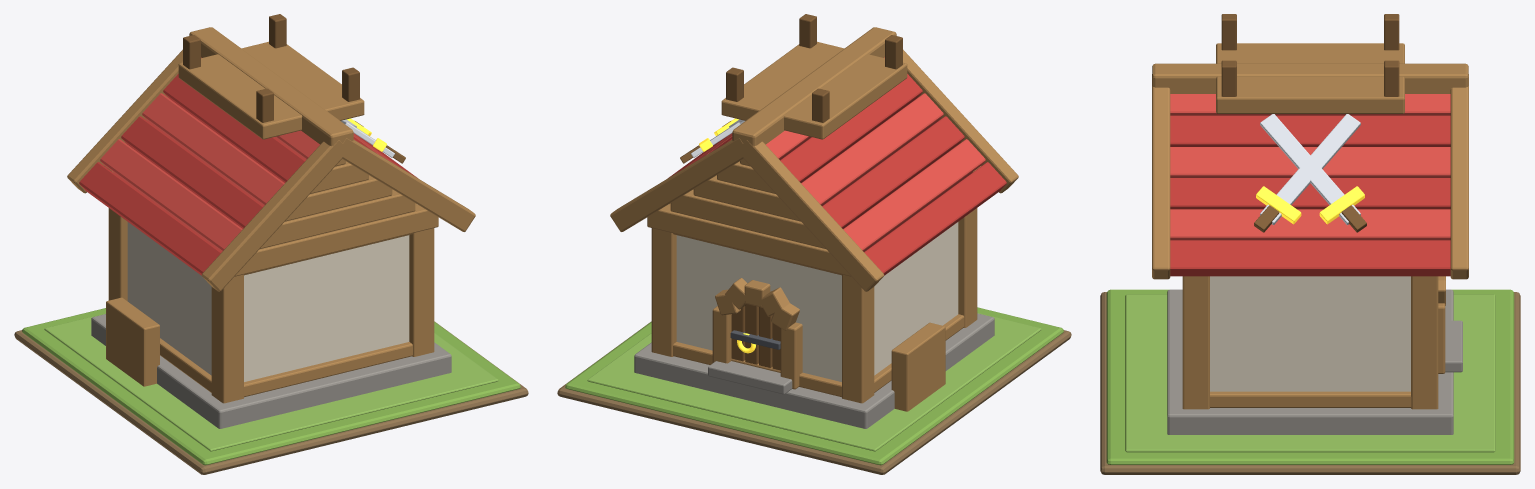
The model's file is barracks_lv2.glb.
3 renders of one model, left to right at view 1: azimuth 30°, elevation 25°; view 2: azimuth 150°, elevation 25°; view 3: azimuth 270°, elevation 25°, orthographic. The views are drawn at different scales.
Parts seen in each view (by area): view 1: PlasterCore, Base_Inner, Base_Grass, Foundation, RoofPlatform, Base_Dirt, Bargeboard_-1_-1, RoofSlope_-1_5, RoofSlope_-1_2, RoofSlope_-1_3, RoofSlope_-1_4, Gable_-1_0 (+17 smaller); view 2: PlasterCore, Base_Inner, Base_Grass, RoofPlatform, Foundation, Base_Dirt, Bargeboard_1_-1, RoofSlope_-1_5, RoofSlope_-1_2, RoofSlope_-1_3, RoofSlope_-1_4, Gable_1_0 (+24 smaller); view 3: PlasterCore, Base_Inner, Base_Grass, Foundation, RoofSlope_1_5, RoofPlatform, RoofSlope_1_4, RoofSlope_1_1, RoofSlope_1_2, RoofSlope_1_3, Base_Dirt, RidgeBeam (+16 smaller).
Boxes of the visible parts, x1,y1,x2,y2 form: PlasterCore: (127, 222, 409, 381); Base_Inner: (44, 313, 498, 451); Base_Grass: (22, 308, 520, 465); Foundation: (91, 314, 451, 428); RoofPlatform: (178, 41, 364, 139); Base_Dirt: (14, 321, 528, 474); Bargeboard_-1_-1: (201, 140, 348, 291); RoofSlope_-1_5: (79, 162, 221, 275); RoofSlope_-1_2: (142, 93, 284, 205); RoofSlope_-1_3: (121, 116, 263, 228); RoofSlope_-1_4: (100, 139, 242, 251); Gable_-1_0: (235, 205, 438, 276); PlasterCore: (676, 222, 958, 381); Base_Inner: (587, 312, 1041, 451); Base_Grass: (565, 307, 1063, 465); RoofPlatform: (721, 41, 907, 139); Foundation: (634, 313, 994, 428); Base_Dirt: (557, 321, 1071, 474); Bargeboard_1_-1: (737, 140, 884, 291); RoofSlope_-1_5: (864, 162, 1006, 275); RoofSlope_-1_2: (801, 93, 943, 205); RoofSlope_-1_3: (822, 116, 964, 228); RoofSlope_-1_4: (843, 139, 985, 251); Gable_1_0: (647, 205, 850, 276); PlasterCore: (1210, 276, 1410, 391); Base_Inner: (1125, 294, 1495, 452); Base_Grass: (1106, 289, 1514, 464); Foundation: (1167, 289, 1453, 434); RoofSlope_1_5: (1170, 240, 1450, 276); RoofPlatform: (1216, 43, 1404, 113); RoofSlope_1_4: (1170, 209, 1450, 240); RoofSlope_1_1: (1170, 115, 1450, 146); RoofSlope_1_2: (1170, 147, 1450, 177); RoofSlope_1_3: (1170, 178, 1450, 209); Base_Dirt: (1100, 292, 1520, 474); RidgeBeam: (1152, 63, 1468, 93).
Size of the model in its own units: 2.76 by 2.52 by 2.76.
